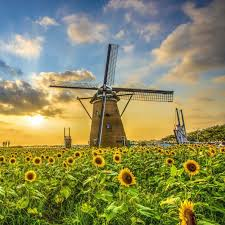flower: (3, 147, 221, 209)
sky: (3, 1, 225, 104)
